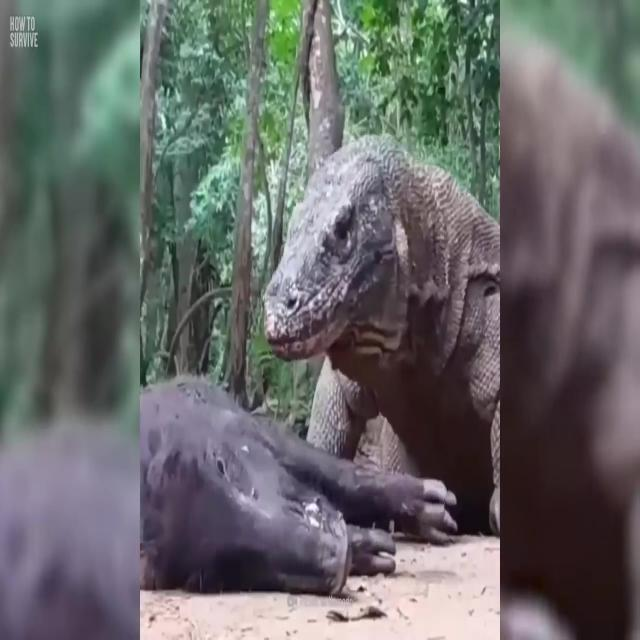pig: (115, 338, 446, 610)
